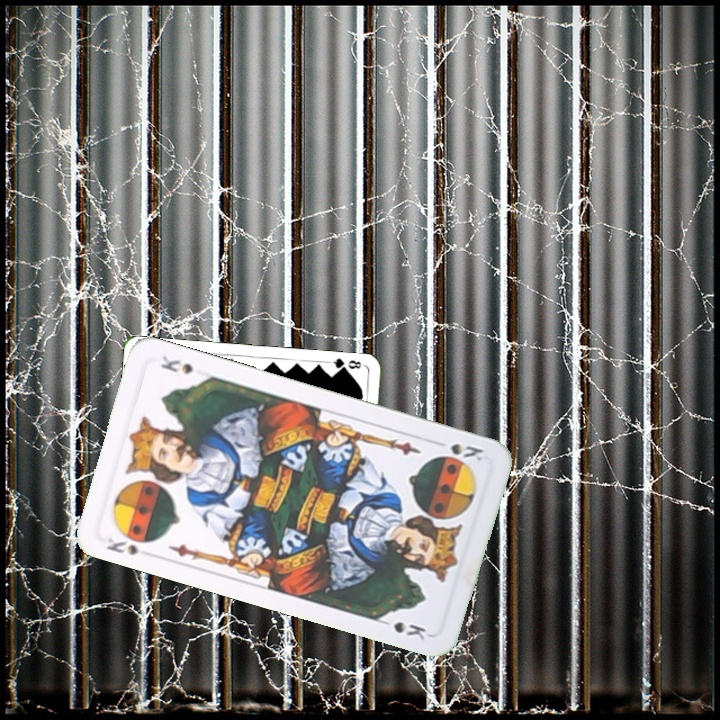G8: (326, 354, 364, 375)
SK: (446, 439, 486, 464), (102, 533, 140, 558)
